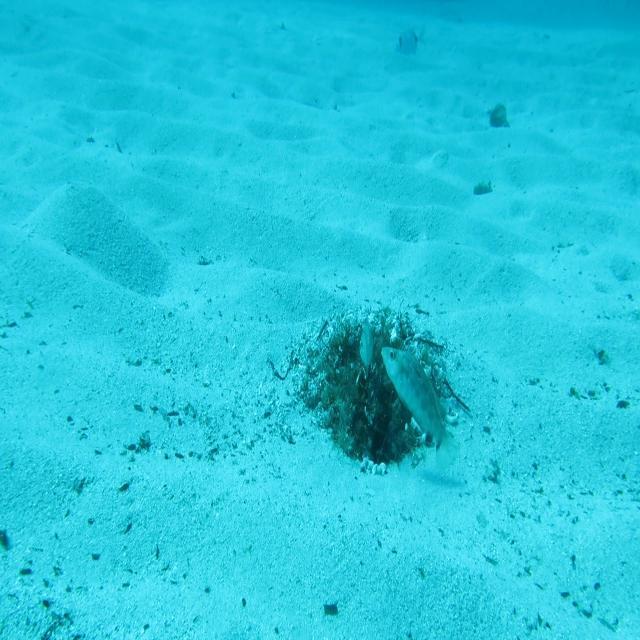LF: (381, 345, 462, 474)
core_nest: (348, 325, 394, 361)
female: (359, 323, 374, 380)
nest: (291, 297, 460, 480)
other_fish: (392, 24, 429, 60)
vegetation: (486, 99, 510, 129), (473, 180, 493, 198), (325, 602, 338, 618)
